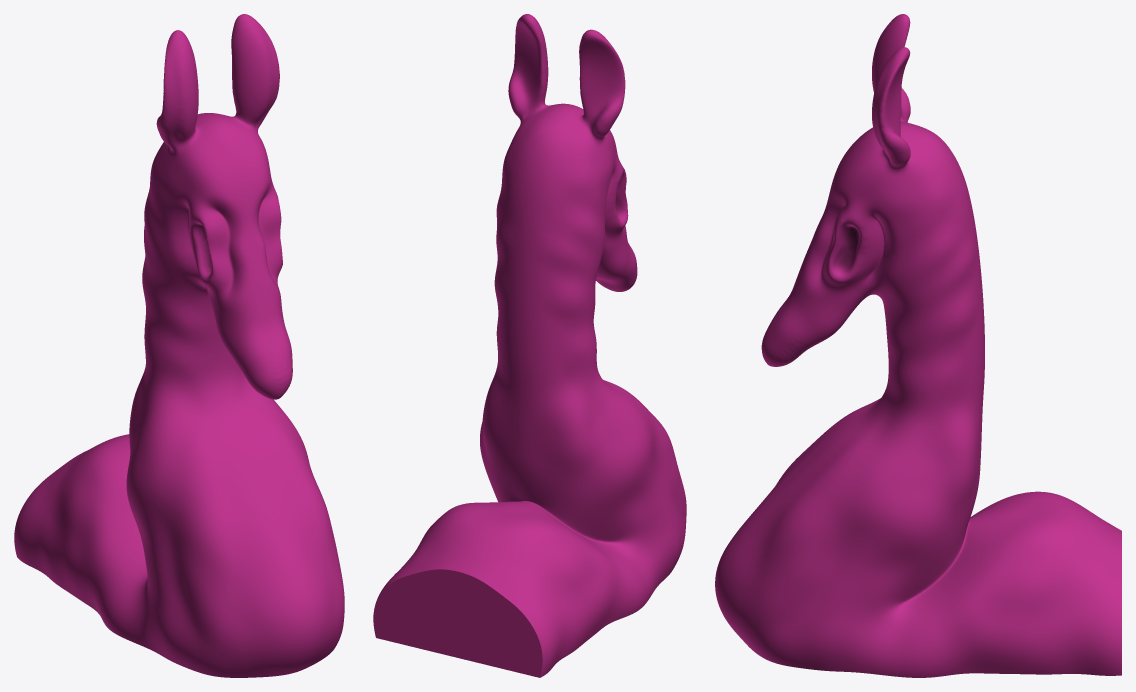
File: Cane_01.glb
The picture shows the model from 3 angles, left to right: view 1: azimuth 30°, elevation 25°; view 2: azimuth 150°, elevation 25°; view 3: azimuth 270°, elevation 25°; orthographic projection. The views are drawn at different scales.
Parts seen in each view (by area): view 1: Tube; view 2: Tube; view 3: Tube.
Part boxes in pixels (bbox=[...]): Tube: bbox=[14, 14, 344, 677]; Tube: bbox=[373, 14, 686, 677]; Tube: bbox=[715, 14, 1121, 677].
Size of the model in its own units: 1.38 by 4.18 by 2.56.
